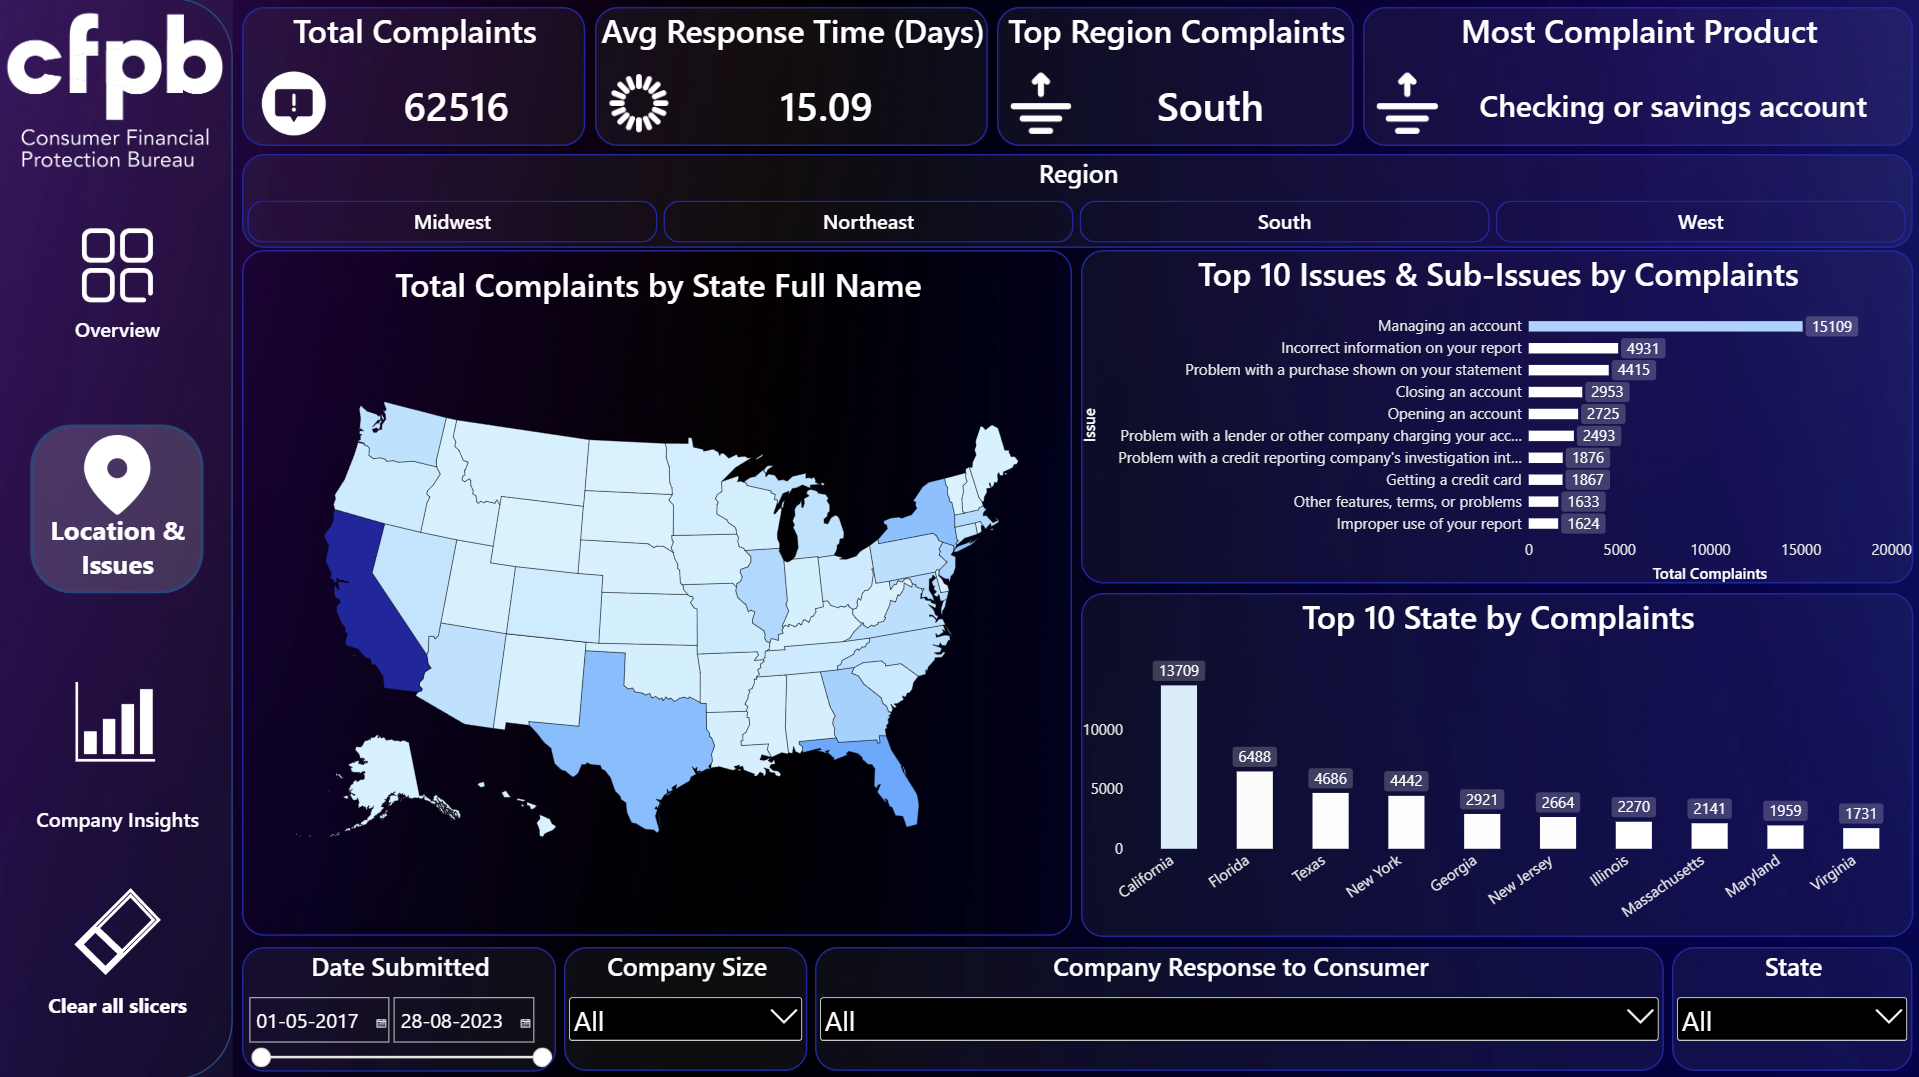

Layout of this report page (visuals, bound fields, positions):
{"tool":"powerbi","page":{"name":"Location & Issues","canvas":[2560,1440],"ordinal":1},"visuals":[{"type":"shape","box":[0,0,314.1,1440.2],"z":0},{"type":"pageNavigator","box":[30.1,249,260.1,878.7],"z":1000},{"type":"image","box":[98.3,910.4,117.4,106.3],"z":2000},{"type":"image","box":[101.5,582.1,117.4,106.3],"z":3000},{"type":"image","box":[101.5,304.5,117.4,106.3],"z":4000},{"type":"image","box":[0,11.1,314.1,223.6],"z":5000},{"type":"shape","box":[42.9,565.7,234,228.7],"z":6000},{"type":"cardVisual","title":"Total Complaints","fields":{"Data":["DAX Measures.Total Complaints"]},"box":[326.7,11.7,456.7,185],"z":7000},{"type":"cardVisual","title":"Avg Response Time (Days)","fields":{"Data":["DAX Measures.Average Response Time (Days)"]},"box":[796.7,11.7,523.3,185],"z":8000},{"type":"cardVisual","title":"Top Region Complaints","fields":{"Data":["DAX Measures.Top Region by Complaints"]},"box":[1331.7,11.7,475,185],"z":9000},{"type":"cardVisual","title":"Most Complaint Product","fields":{"Data":["DAX Measures.Most Comman Complaint Product"]},"box":[1818,12,732,185],"z":10000},{"type":"slicer","title":"Date Submitted","fields":{"Values":["Complaints.Date submitted"]},"box":[326,1264,418,166],"z":11000},{"type":"slicer","title":"Company Response to Consumer","fields":{"Values":["Complaints.Company response to consumer"]},"box":[1088.3,1263.3,1130,165],"z":13000},{"type":"slicer","title":"State","fields":{"Values":["Complaints.State Full Name"]},"box":[2230,1263.3,320,165],"z":14000},{"type":"advancedSlicerVisual","title":"Region","fields":{"Values":["Complaints.Census_Region"]},"box":[326.2,207.5,2223.8,125],"z":15000},{"type":"actionButton","box":[43.3,1168.3,233.3,205],"z":16000},{"type":"shapeMap","fields":{"Category":["Complaints.State Full Name"],"Value":["DAX Measures.Total Complaints"]},"box":[326.2,335,1105,912.5],"z":17000},{"type":"clusteredBarChart","title":"Top 10 Issues & Sub-Issues by Complaints","fields":{"Category":["Complaints.Issue","Complaints.Sub-issue"],"Y":["DAX Measures.Total Complaints"]},"box":[1442.5,335,1107.8,444.4],"z":18000},{"type":"clusteredColumnChart","title":"Top 10 State by Complaints","fields":{"Category":["Complaints.State Full Name"],"Y":["DAX Measures.Total Complaints"]},"box":[1442.5,792.5,1107.5,457.5],"z":19000},{"type":"slicer","title":"Company Size","fields":{"Values":["Company.Company_Size_Tier"]},"box":[755,1263.8,323.8,165],"z":19001}]}

Visuals, with their boxes in screenshot pixels (x1, y1, x2, y2), scaled from the page's 2560x1440 canvas onto the 1919x1077 screenshot:
shape: [left=0, top=0, right=235, bottom=1076]
pageNavigator: [left=23, top=186, right=218, bottom=843]
image: [left=74, top=681, right=162, bottom=760]
image: [left=76, top=435, right=164, bottom=515]
image: [left=76, top=228, right=164, bottom=307]
image: [left=0, top=8, right=235, bottom=176]
shape: [left=32, top=423, right=208, bottom=594]
"Total Complaints" cardVisual: [left=245, top=9, right=587, bottom=147]
"Avg Response Time (Days)" cardVisual: [left=597, top=9, right=989, bottom=147]
"Top Region Complaints" cardVisual: [left=998, top=9, right=1354, bottom=147]
"Most Complaint Product" cardVisual: [left=1363, top=9, right=1912, bottom=147]
"Date Submitted" slicer: [left=244, top=945, right=558, bottom=1070]
"Company Response to Consumer" slicer: [left=816, top=945, right=1663, bottom=1068]
"State" slicer: [left=1672, top=945, right=1912, bottom=1068]
"Region" advancedSlicerVisual: [left=245, top=155, right=1912, bottom=249]
actionButton: [left=32, top=874, right=207, bottom=1027]
shapeMap - Complaints.State Full Name x DAX Measures.Total Complaints: [left=245, top=251, right=1073, bottom=933]
"Top 10 Issues & Sub-Issues by Complaints" clusteredBarChart: [left=1081, top=251, right=1912, bottom=583]
"Top 10 State by Complaints" clusteredColumnChart: [left=1081, top=593, right=1912, bottom=935]
"Company Size" slicer: [left=566, top=945, right=809, bottom=1069]
